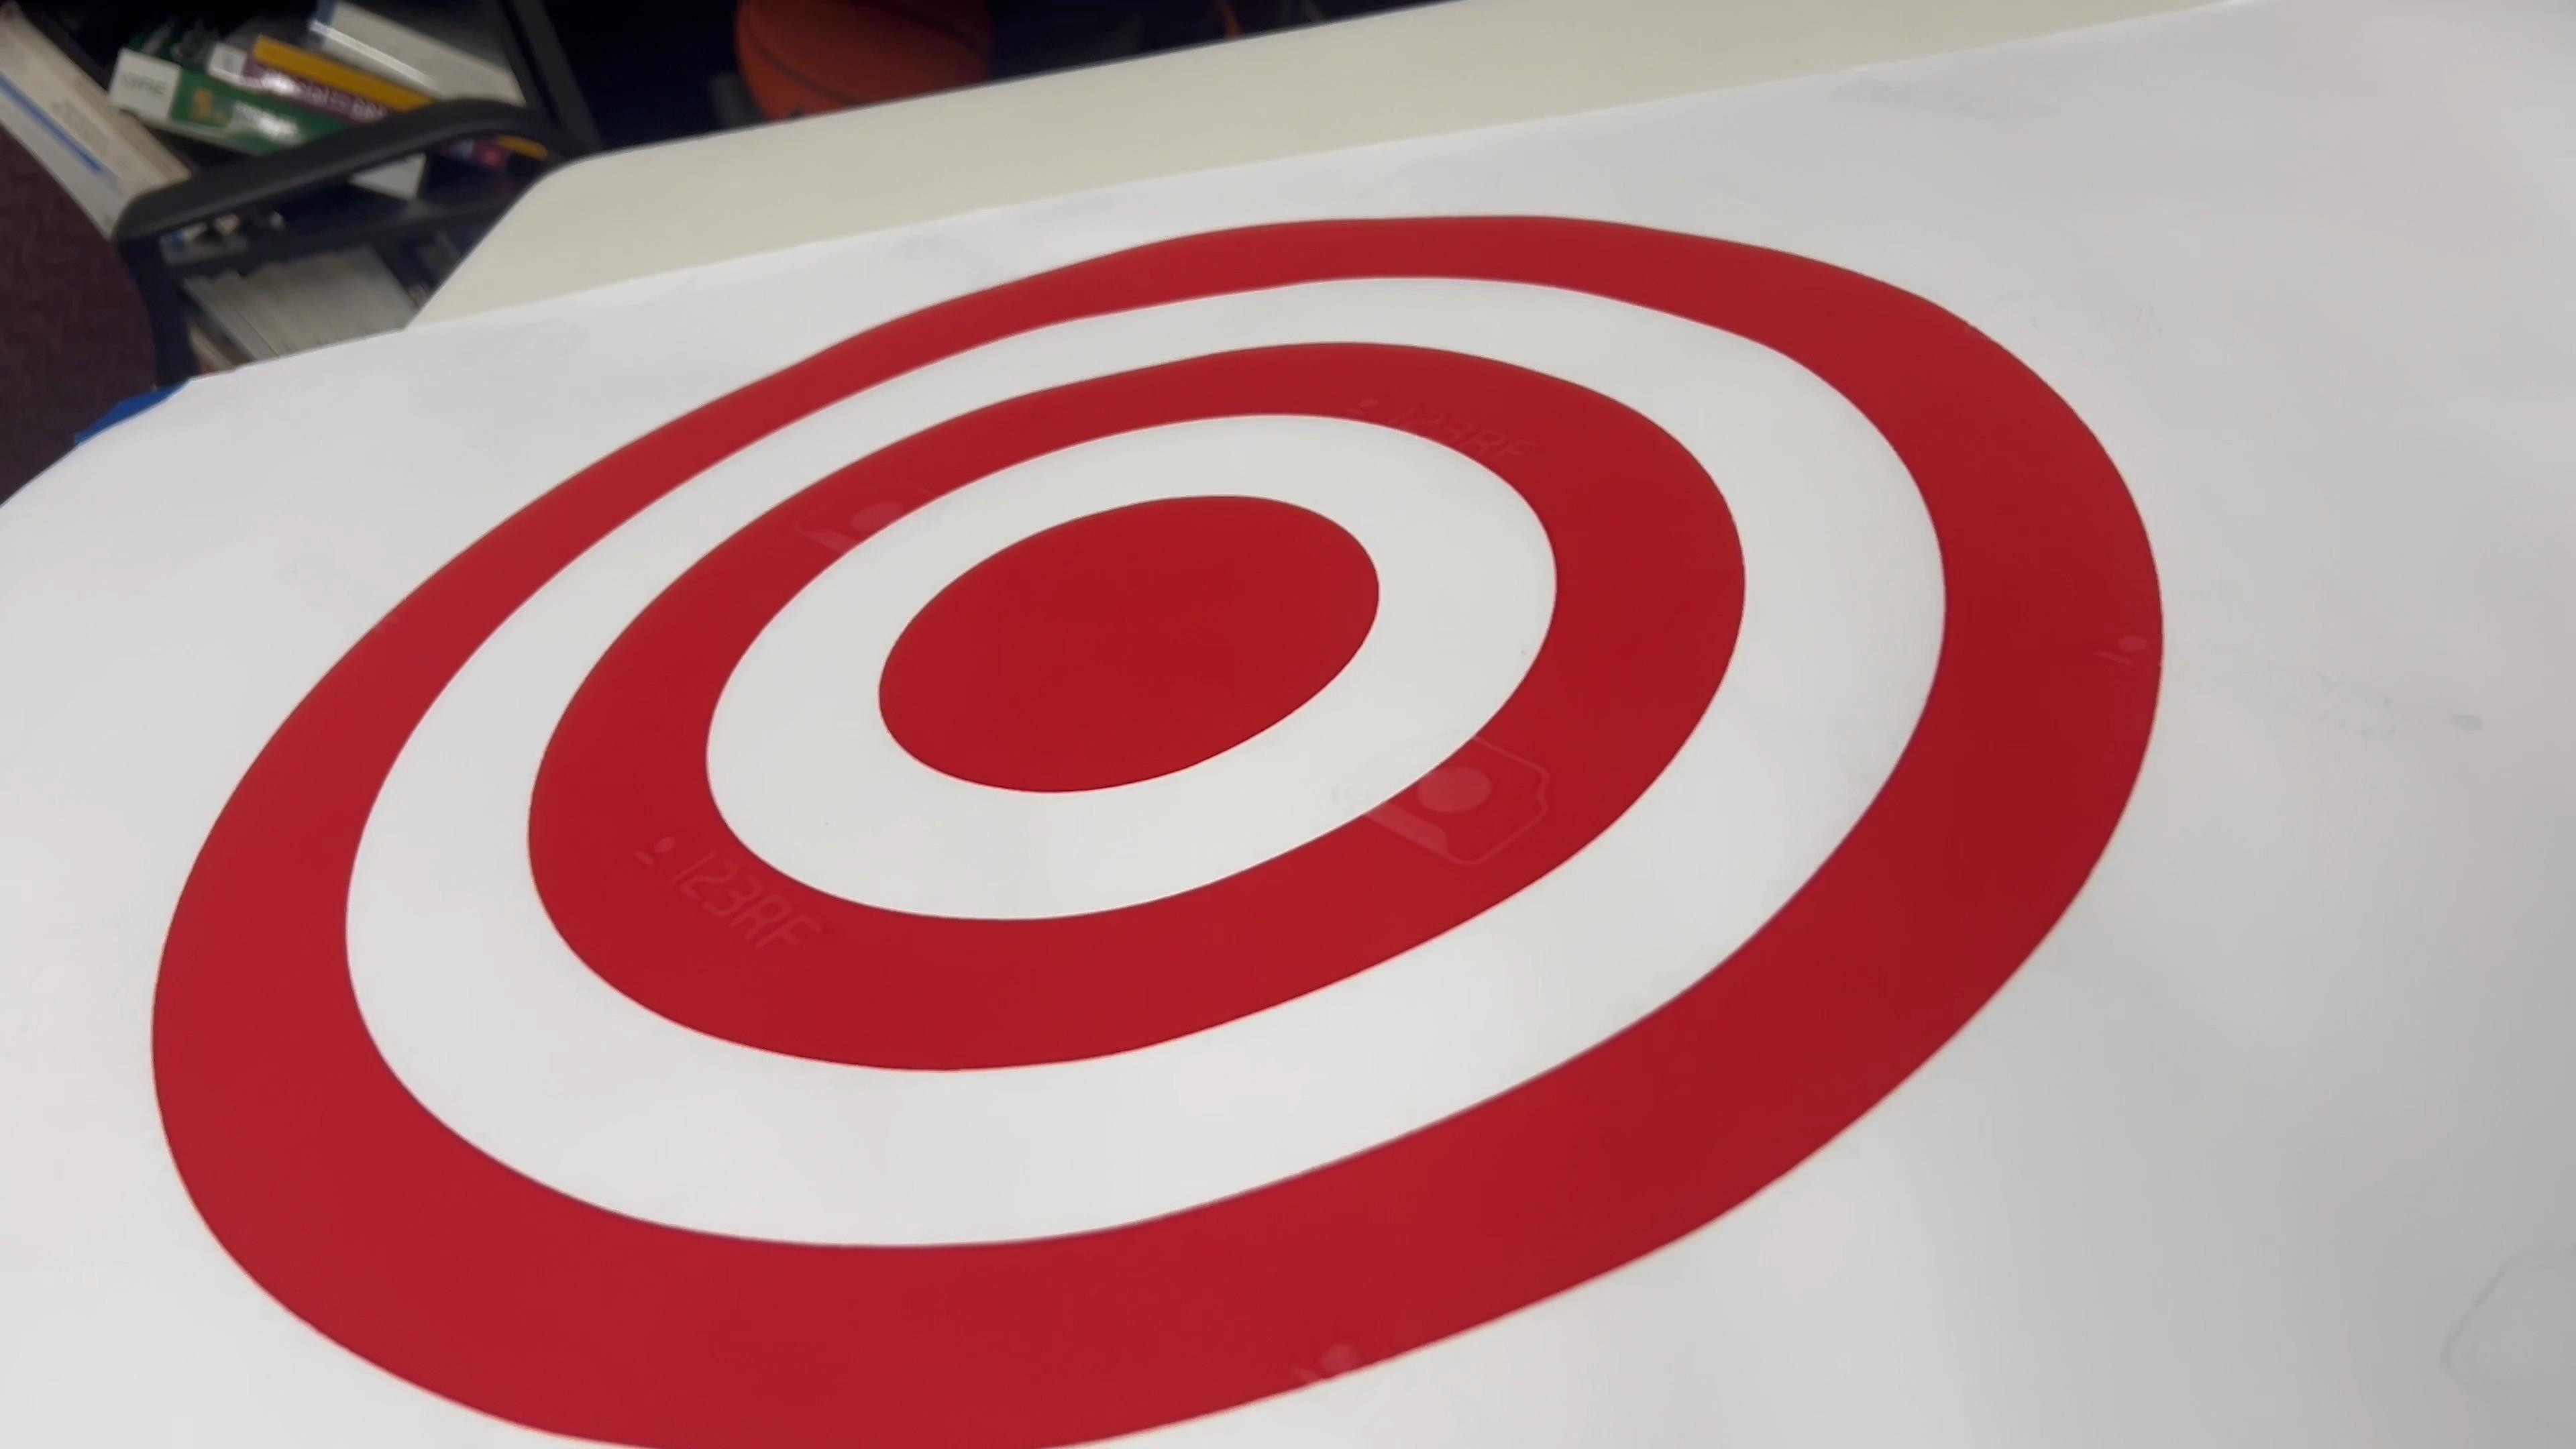target_red: (0, 186, 2190, 1449)
